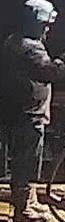vest: (1, 36, 52, 125)
